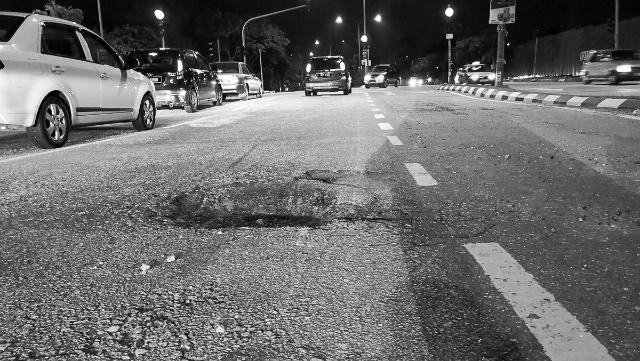Pothole: (162, 194, 328, 233), (297, 166, 343, 186), (339, 212, 401, 226)
